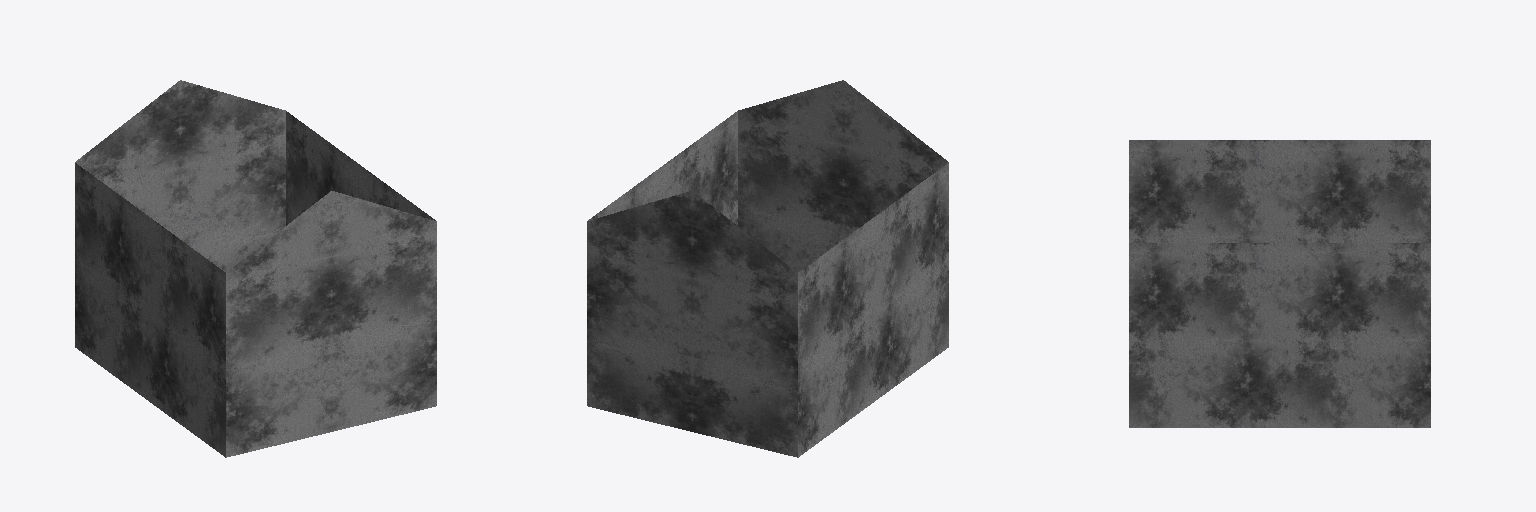
3 views of the same model, side by side, from view 1: azimuth 30°, elevation 25°; view 2: azimuth 150°, elevation 25°; view 3: azimuth 270°, elevation 25° (orthographic).
Visible parts, largest first — view 1: Cube.000_Cube.006; view 2: Cube.000_Cube.006; view 3: Cube.000_Cube.006.
Boxes of the visible parts, x1=… form: Cube.000_Cube.006: x1=75, y1=80, x2=436, y2=457; Cube.000_Cube.006: x1=587, y1=80, x2=948, y2=457; Cube.000_Cube.006: x1=1129, y1=140, x2=1430, y2=427.
Size of the model in its own units: 13.14 by 14.36 by 16.29.
Materials: 1 (1 with a texture image).